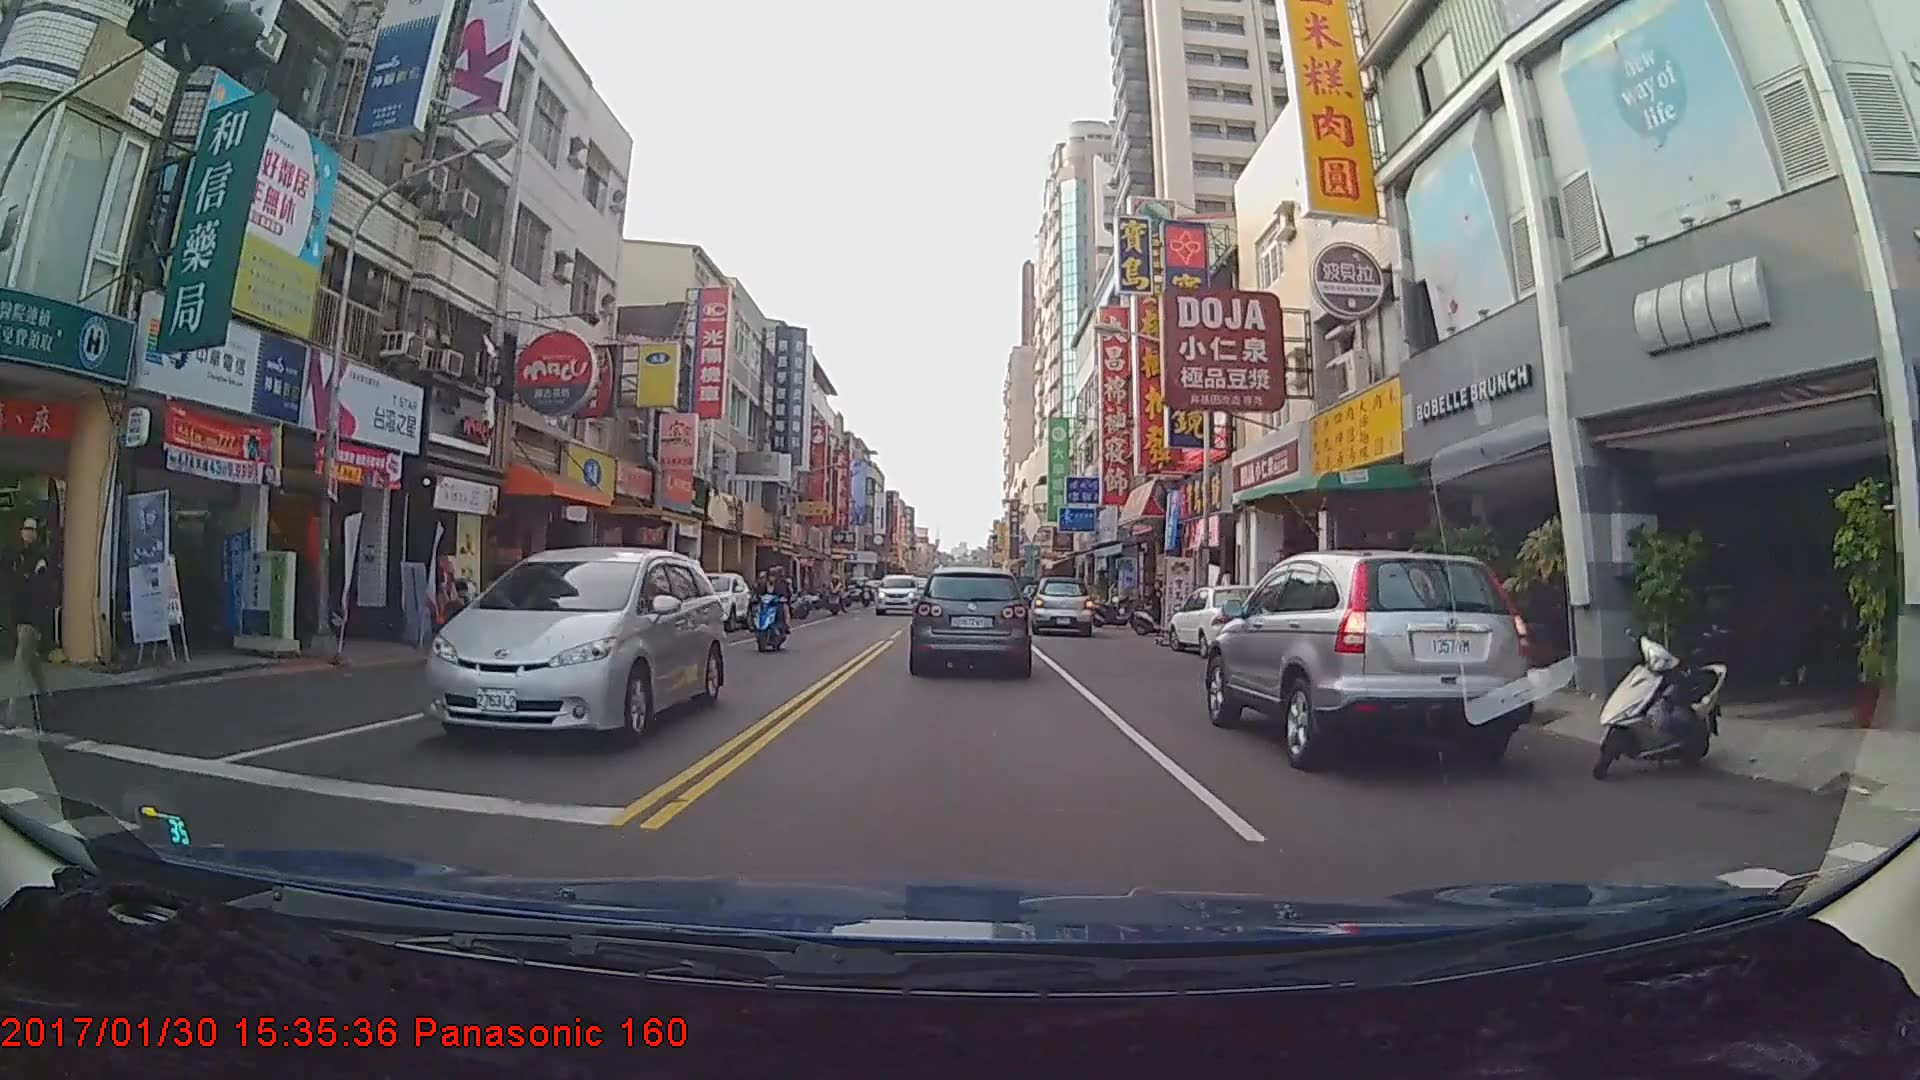pedestrian: (1, 518, 61, 735)
rider: (746, 568, 797, 655)
vehicle: (1205, 546, 1534, 771), (423, 544, 726, 753), (915, 564, 1029, 674), (1166, 584, 1279, 657), (675, 572, 753, 632), (1030, 577, 1093, 636), (873, 572, 922, 617)
